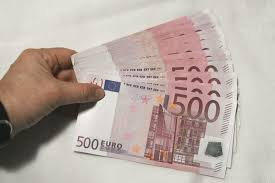billete: (69, 7, 239, 178)
